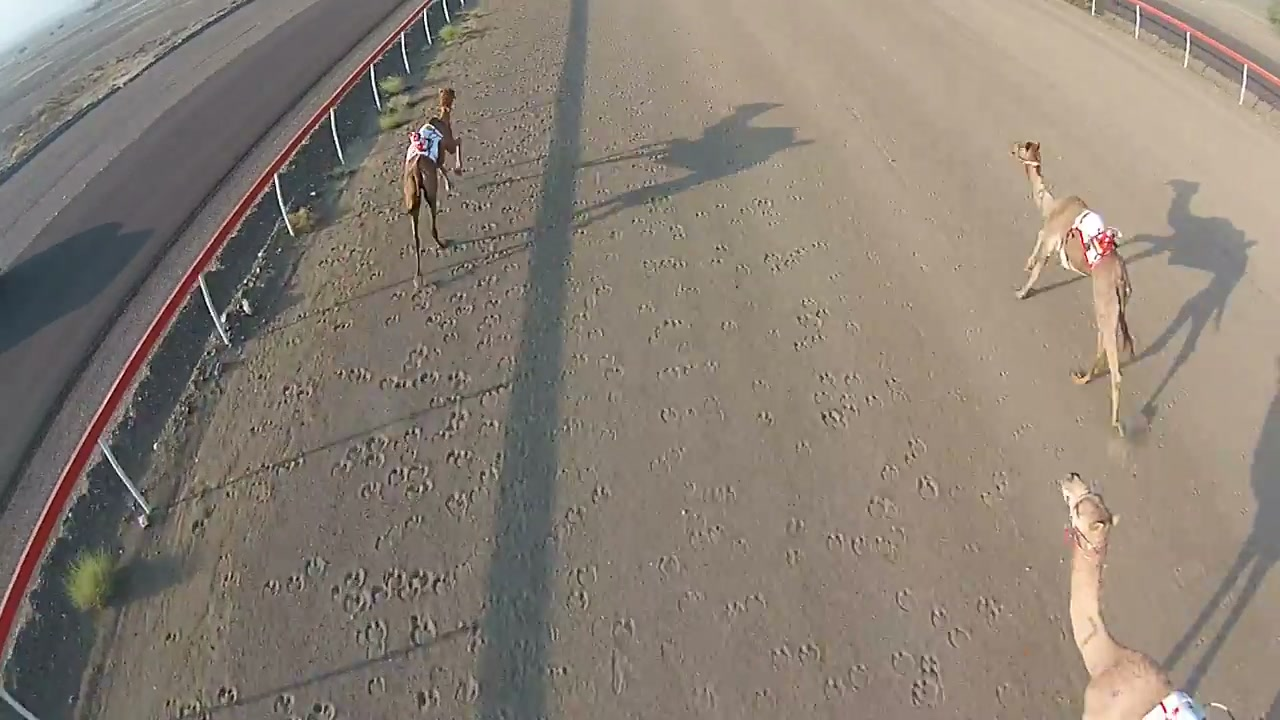animal_footprint: (584, 153, 1024, 719), (264, 189, 522, 719)
